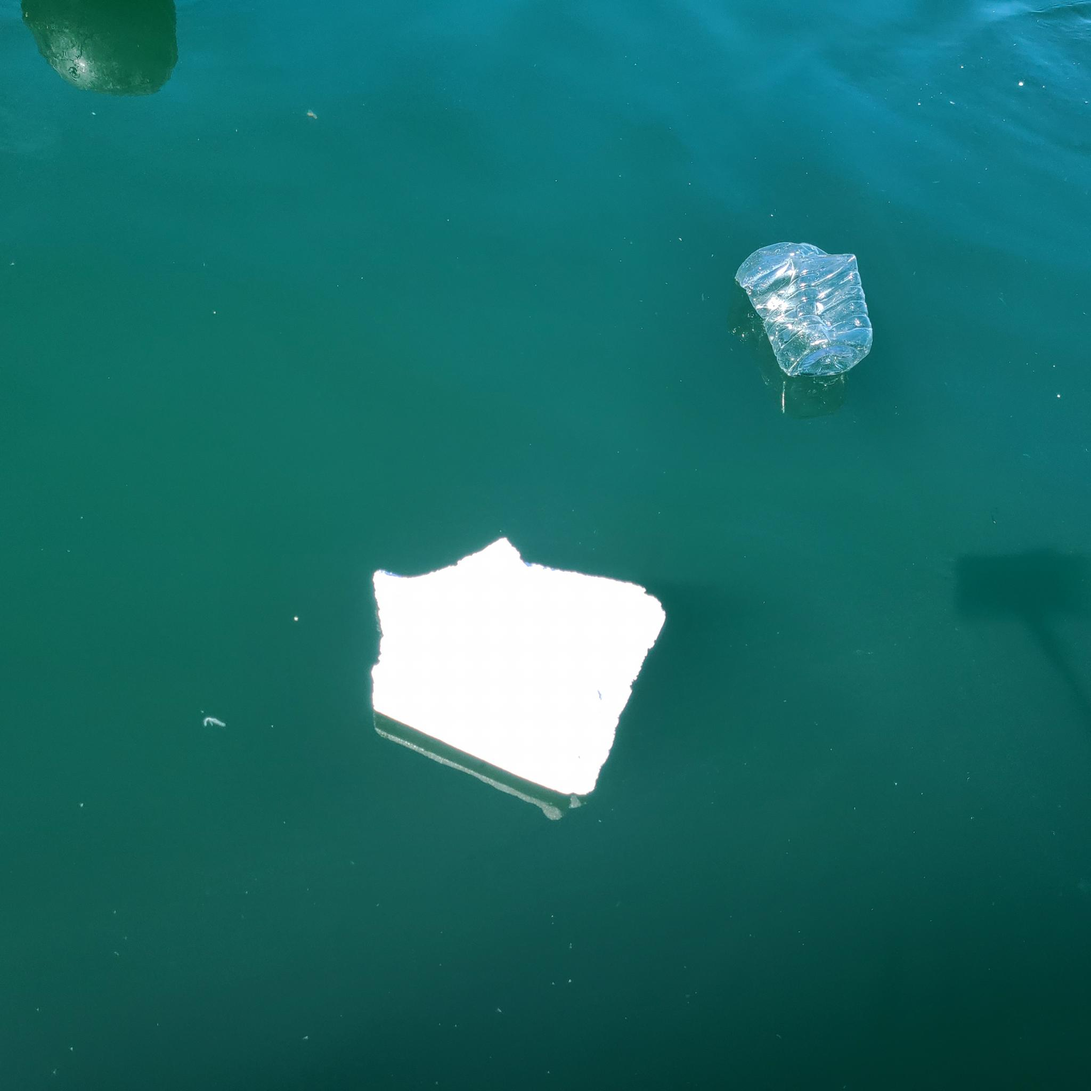sampah_terapung: (371, 538, 667, 795), (734, 241, 874, 378)
